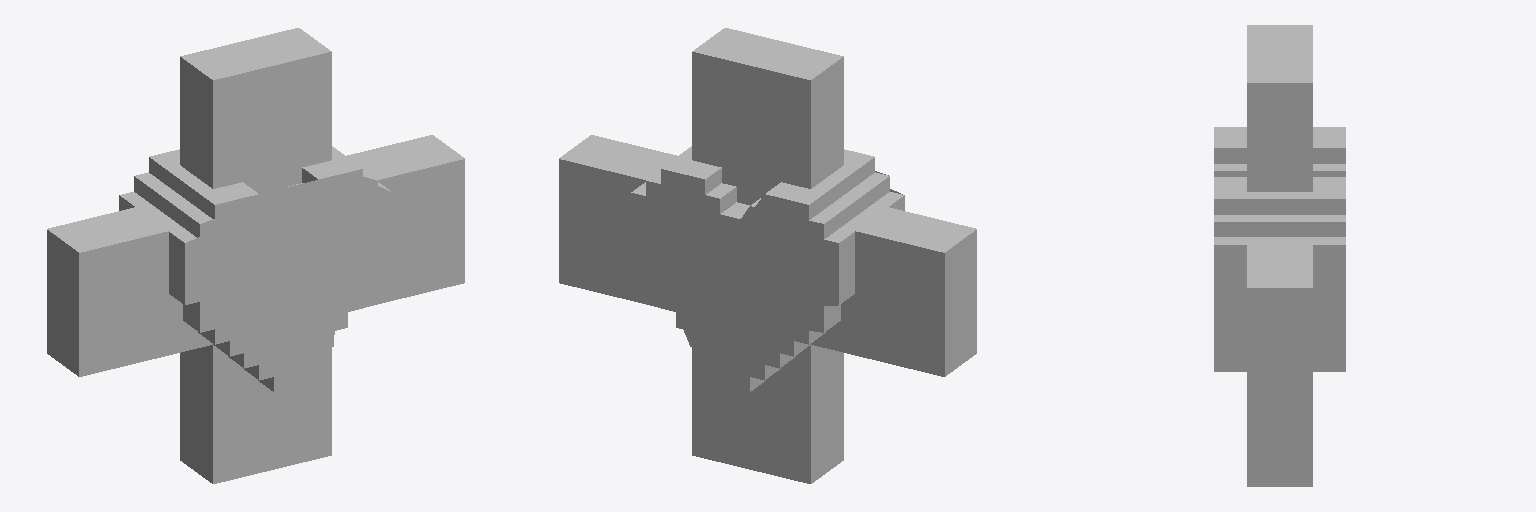
The model's file is Vitality.obj.
3 views of the same model, side by side, from view 1: azimuth 30°, elevation 25°; view 2: azimuth 150°, elevation 25°; view 3: azimuth 270°, elevation 25° (orthographic).
Visible parts, largest first — view 1: Plane.019_Plane.042; view 2: Plane.019_Plane.042; view 3: Plane.019_Plane.042.
Part boxes in pixels (x1,y1,x2,y2): Plane.019_Plane.042: (47, 28, 464, 483); Plane.019_Plane.042: (559, 28, 976, 483); Plane.019_Plane.042: (1214, 25, 1345, 486).
Size of the model in its own units: 1.35 by 1.35 by 0.4.